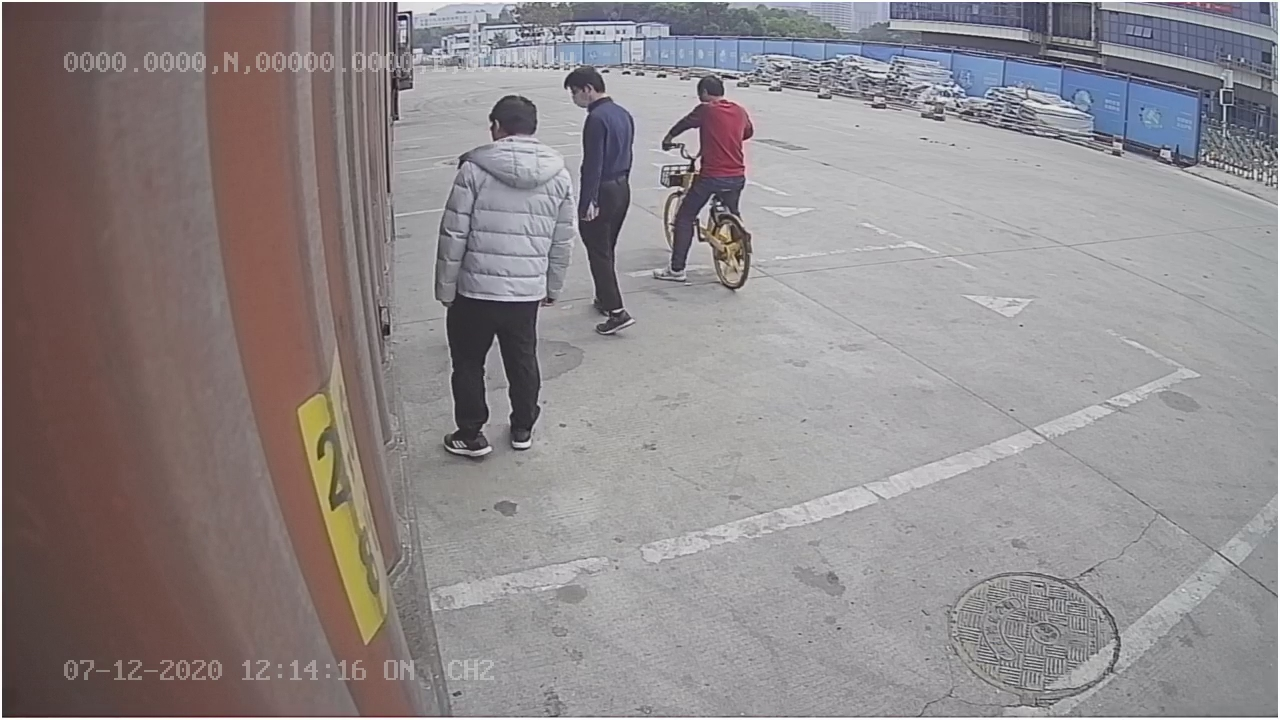person: (434, 89, 579, 463)
